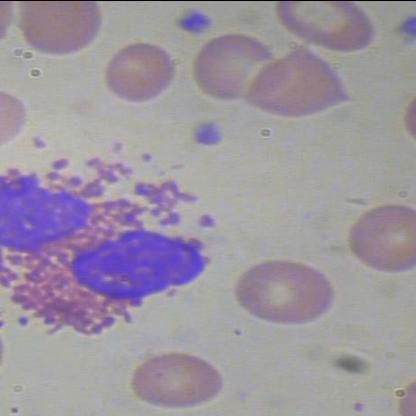Platelets: (174, 5, 215, 39), (191, 114, 227, 148), (392, 12, 415, 42)
RBC: (254, 43, 358, 121), (190, 30, 294, 108), (124, 342, 232, 416), (228, 252, 336, 324), (9, 1, 109, 63), (271, 1, 382, 55), (103, 35, 181, 109), (339, 199, 415, 274)
WBC: (1, 143, 223, 349)
